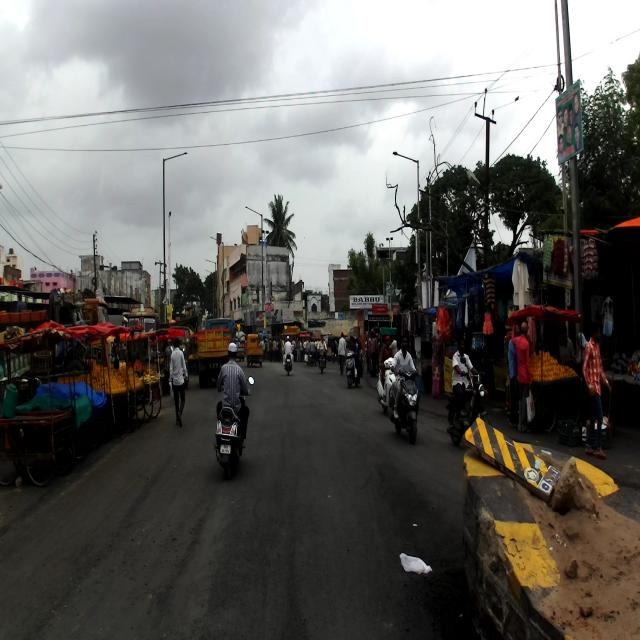motorcycle_TVS: (444, 357, 491, 448)
scooter: (213, 375, 254, 480), (386, 364, 419, 443)
